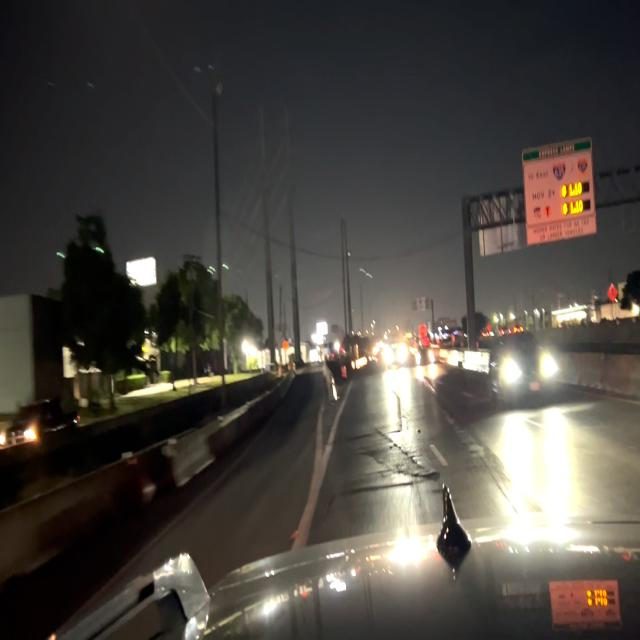back-of-sign: (475, 186, 525, 262), (410, 294, 433, 317)
